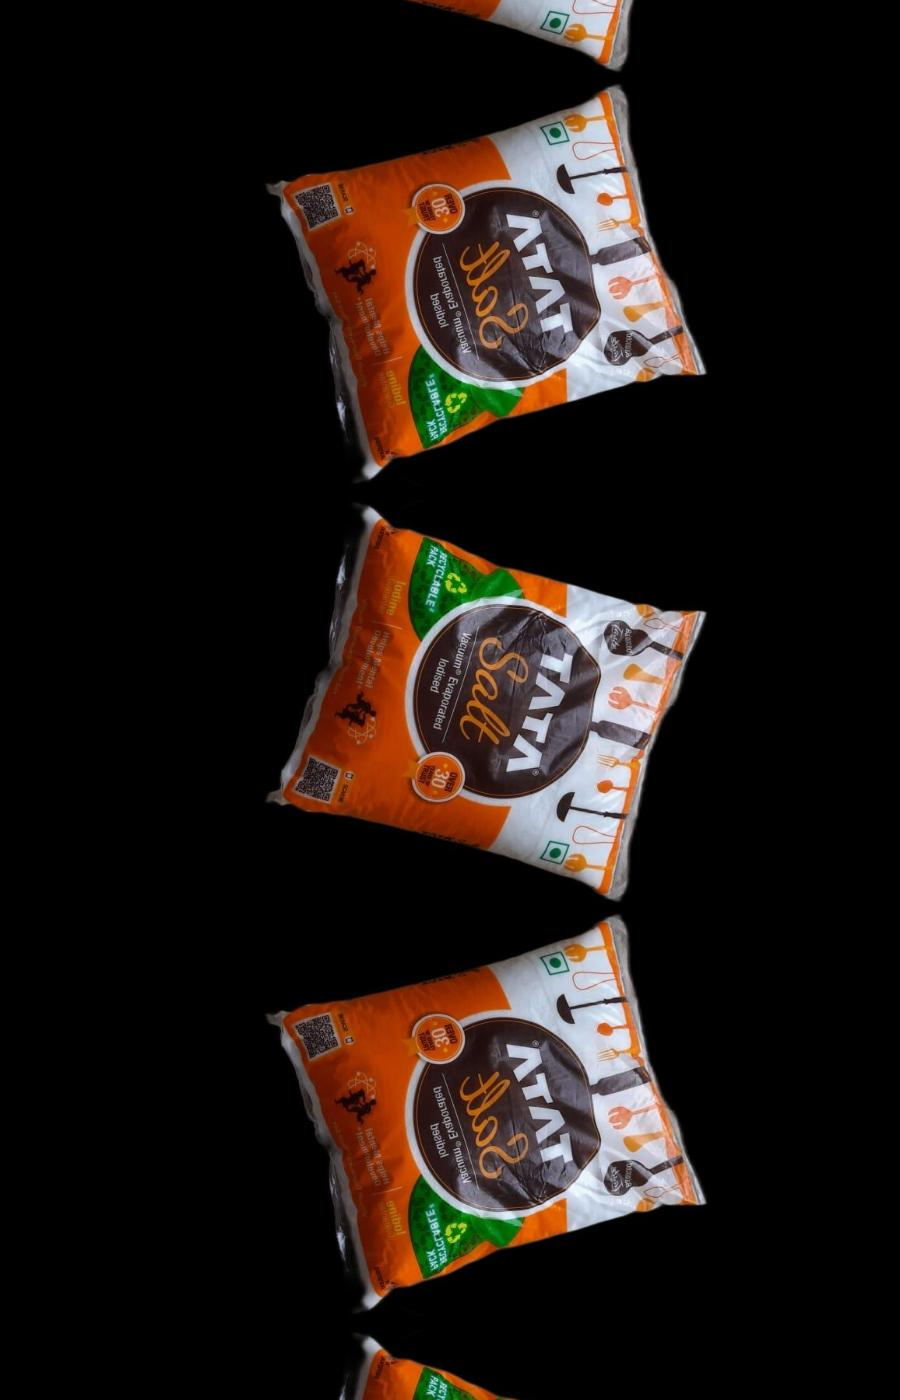Tata Salt Vacuum Evaporated Iodised Salt 1 kg Pouch: (276, 499, 704, 899), (276, 85, 704, 485), (276, 916, 704, 1316)
